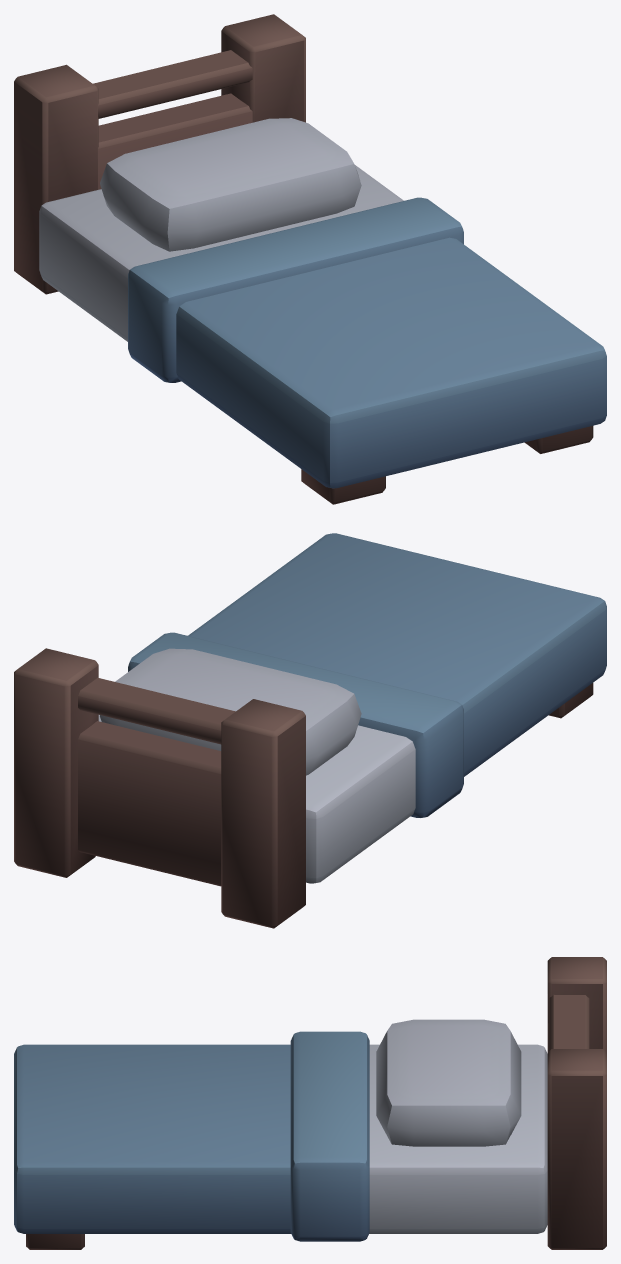
The model's file is bed_single_A.glb.
The picture shows the model from 3 angles, top to bottom: view 1: azimuth 30°, elevation 25°; view 2: azimuth 150°, elevation 25°; view 3: azimuth 270°, elevation 25°; orthographic projection. The views are drawn at different scales.
Visible parts, largest first — view 1: bed_single_A; view 2: bed_single_A; view 3: bed_single_A.
Part boxes in pixels (x1=…): bed_single_A: x1=14, y1=14, x2=606, y2=504; bed_single_A: x1=14, y1=533, x2=606, y2=928; bed_single_A: x1=14, y1=957, x2=606, y2=1249.
Bounding box in the file's own units: 1.6 × 1 × 3.
Materials: 1 (1 with a texture image).
